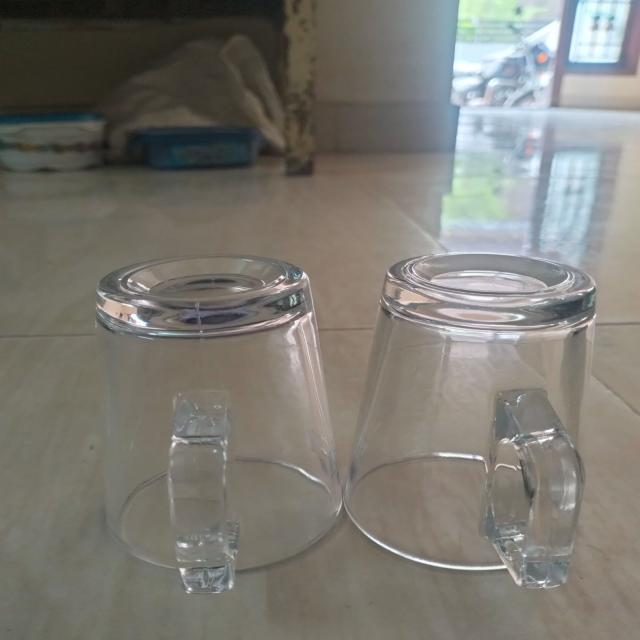glass-VX4N: (346, 252, 609, 592), (87, 245, 336, 597)
